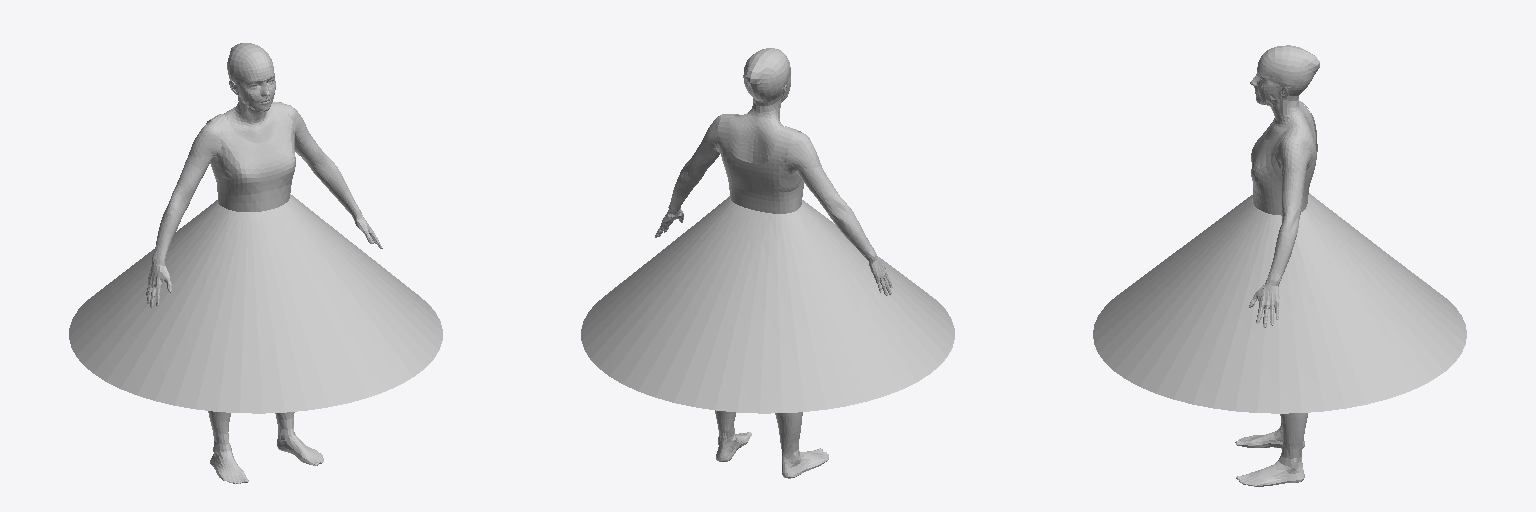
File: Circle Dress 2016 July 8 with body lores.obj
3 views of the same model, side by side, from view 1: azimuth 30°, elevation 25°; view 2: azimuth 150°, elevation 25°; view 3: azimuth 270°, elevation 25° (orthographic).
Parts seen in each view (by area): view 1: FF_360_round_neck.028_dress_base_seams_neckline_test_female_Swea, size_4_inches_size_4_pelvis.003, FF_360_round_neck.007_dress_base_seams_neckline_test_female_Swea; view 2: FF_360_round_neck.028_dress_base_seams_neckline_test_female_Swea, size_4_inches_size_4_pelvis.003, FF_360_round_neck.007_dress_base_seams_neckline_test_female_Swea; view 3: FF_360_round_neck.028_dress_base_seams_neckline_test_female_Swea, size_4_inches_size_4_pelvis.003, FF_360_round_neck.007_dress_base_seams_neckline_test_female_Swea.
Part boxes in pixels (left/top/right/bottom): FF_360_round_neck.028_dress_base_seams_neckline_test_female_Swea: left=69, top=194, right=442, bottom=413; size_4_inches_size_4_pelvis.003: left=146, top=43, right=382, bottom=483; FF_360_round_neck.007_dress_base_seams_neckline_test_female_Swea: left=206, top=102, right=295, bottom=211; FF_360_round_neck.028_dress_base_seams_neckline_test_female_Swea: left=581, top=196, right=954, bottom=413; size_4_inches_size_4_pelvis.003: left=655, top=48, right=892, bottom=478; FF_360_round_neck.007_dress_base_seams_neckline_test_female_Swea: left=717, top=114, right=803, bottom=213; FF_360_round_neck.028_dress_base_seams_neckline_test_female_Swea: left=1093, top=193, right=1466, bottom=413; size_4_inches_size_4_pelvis.003: left=1235, top=45, right=1319, bottom=486; FF_360_round_neck.007_dress_base_seams_neckline_test_female_Swea: left=1251, top=101, right=1317, bottom=215.
Size of the model in its own units: 52.28 by 63.98 by 52.26.